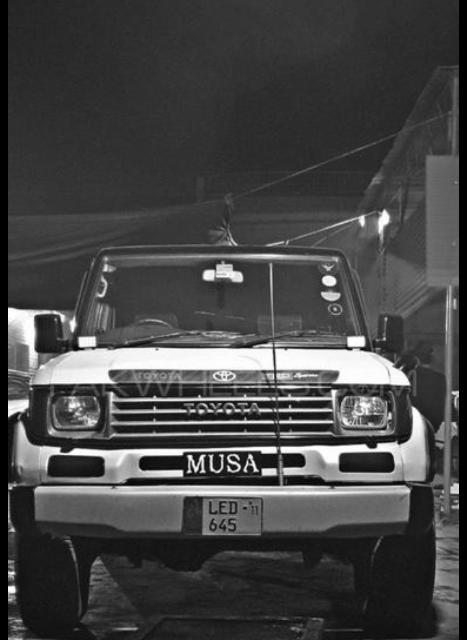Number: (208, 499, 240, 533)
